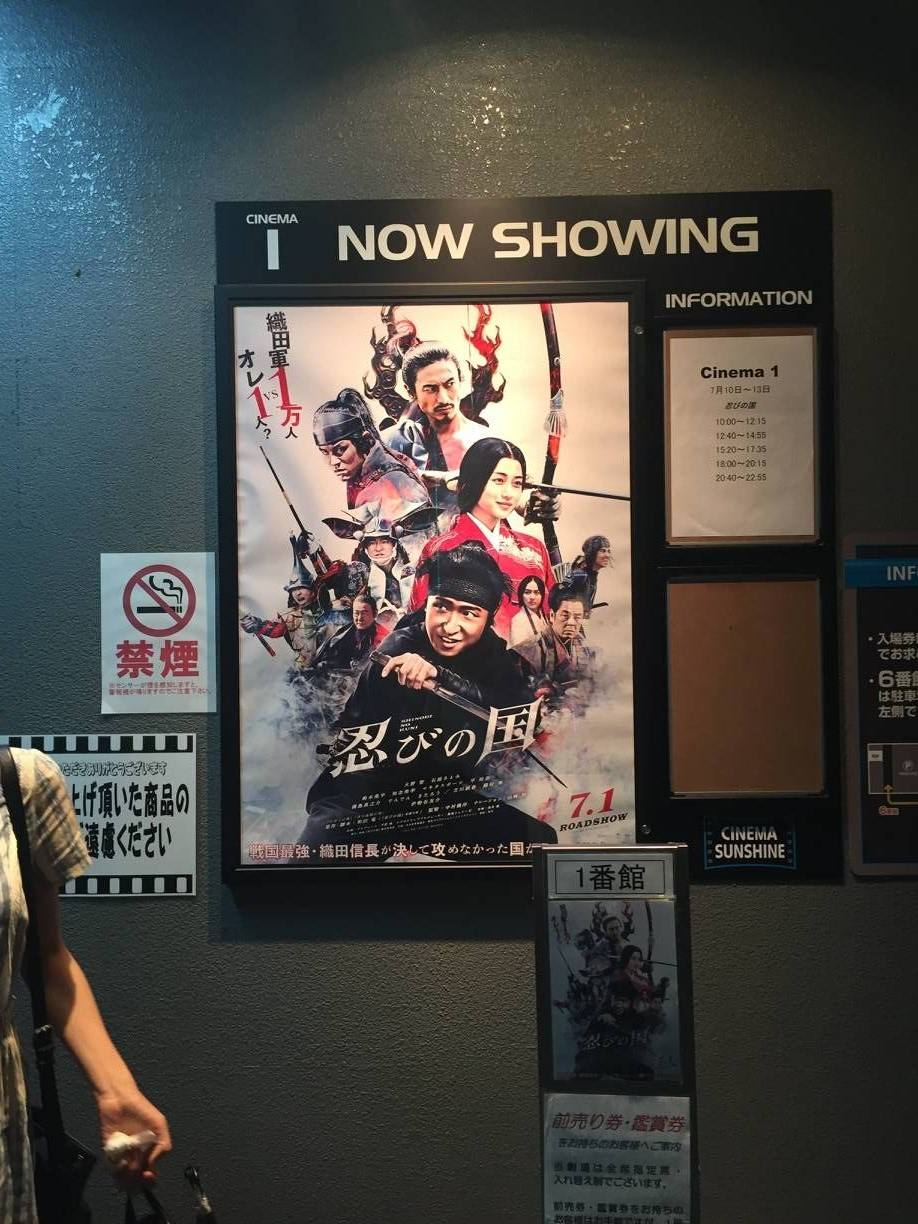bill: (234, 303, 640, 866), (542, 848, 691, 1224), (2, 728, 190, 894), (668, 336, 818, 542), (108, 548, 218, 711)
